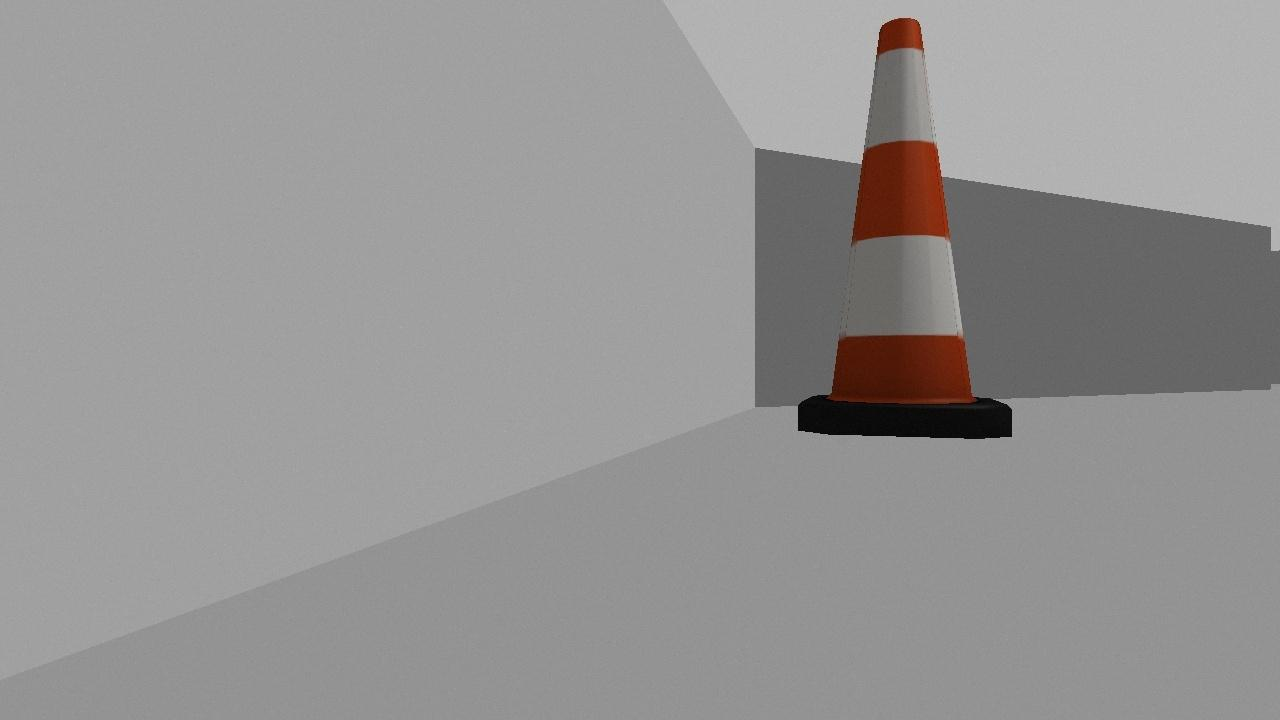cone_barrel: (795, 16, 1012, 438)
